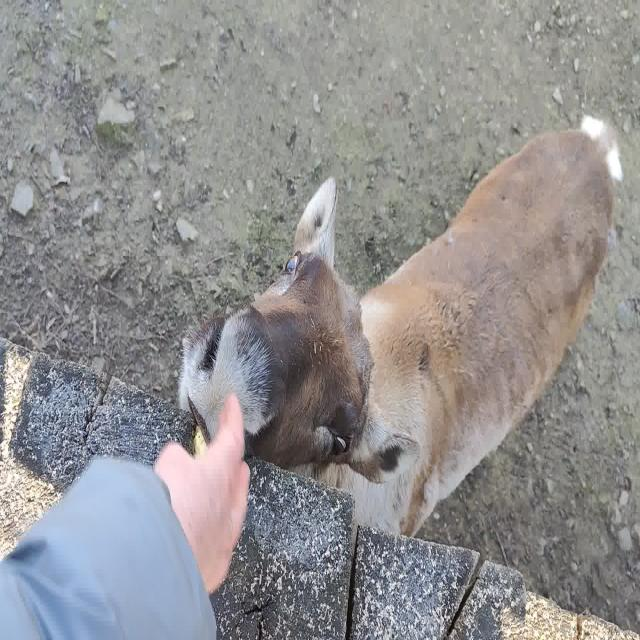deer: (179, 114, 623, 535)
